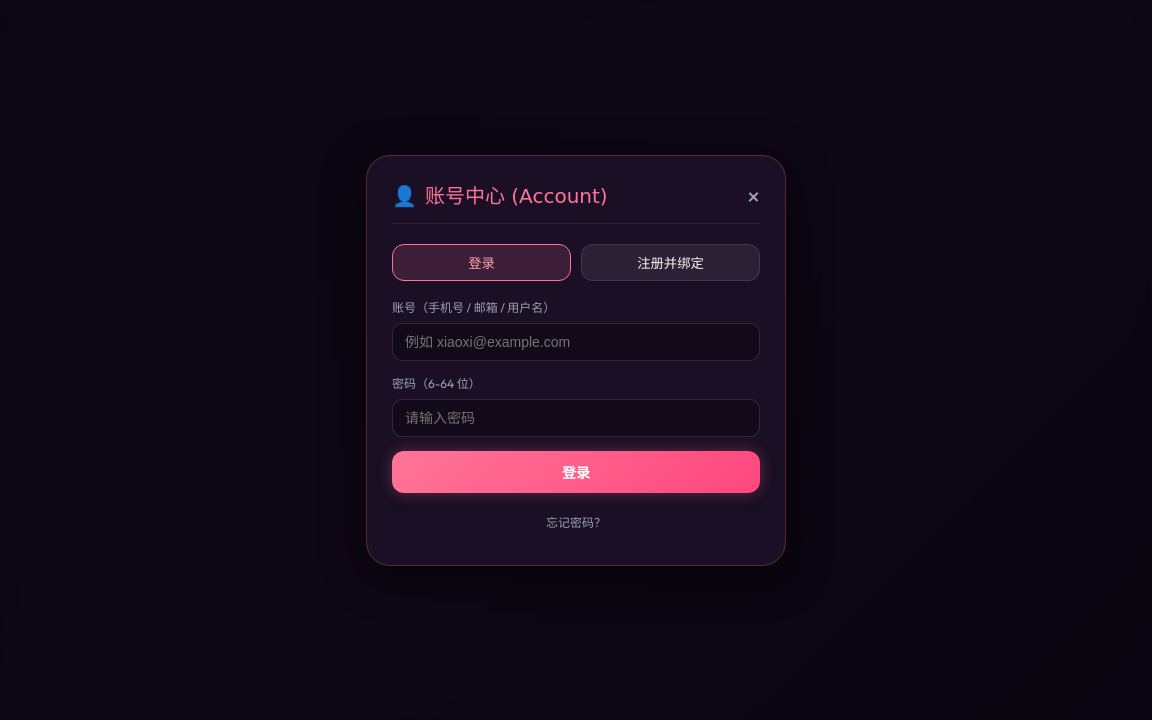
AuthModal › closing the modal re-arms the confirm (no one-click login after reopen)
In the field with placeholder "例如 xiaoxi@example.com": x=576, y=342 392,322 -> 760,360, type "tester@example.com"
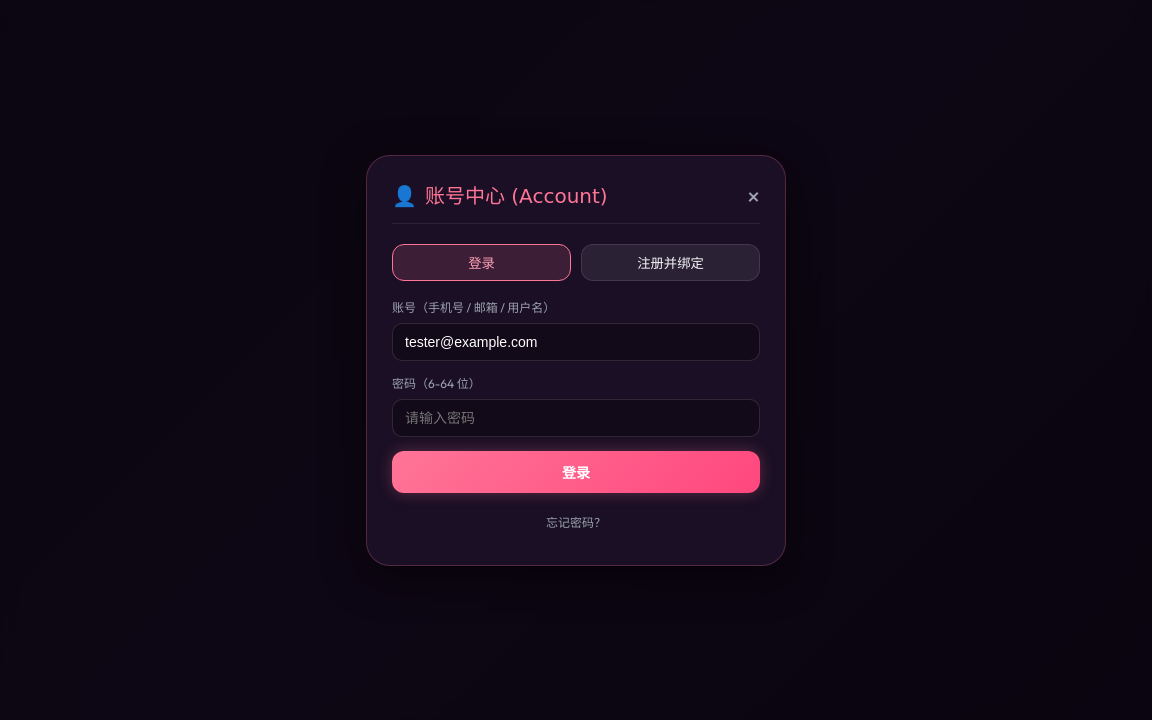
In the password field with placeholder "请输入密码": x=576, y=418 392,398 -> 760,436, type "secret123"
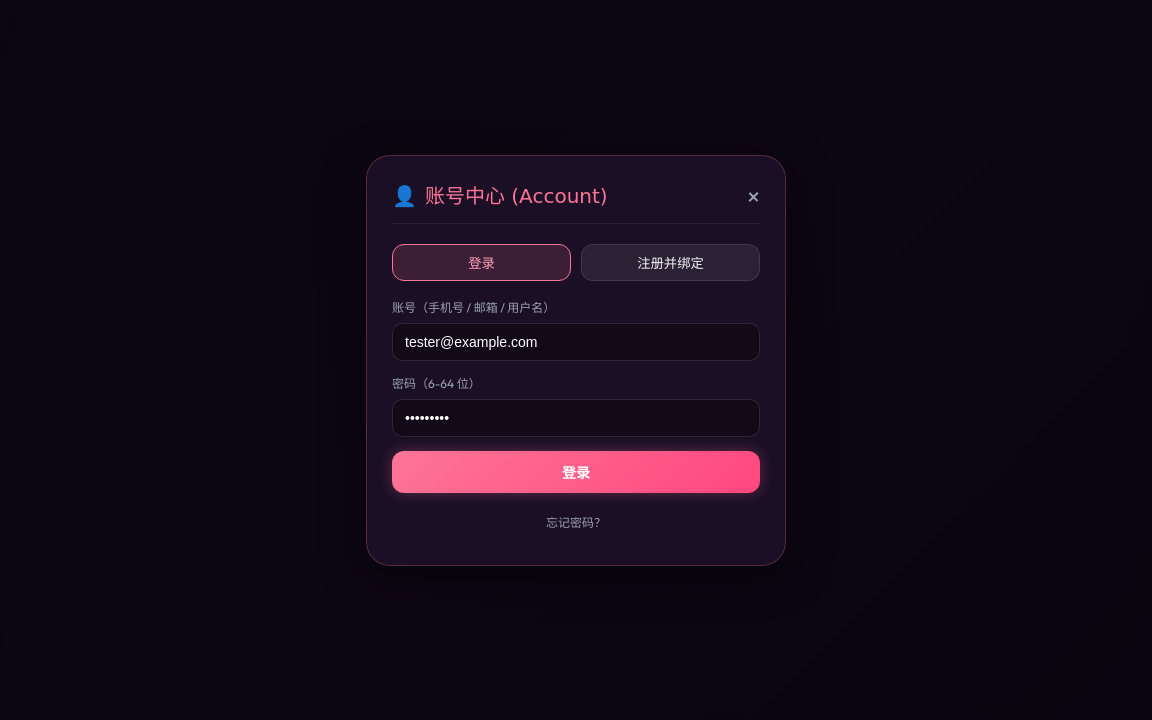
Click the 2nd button "登录": x=576, y=472 392,450 -> 760,492
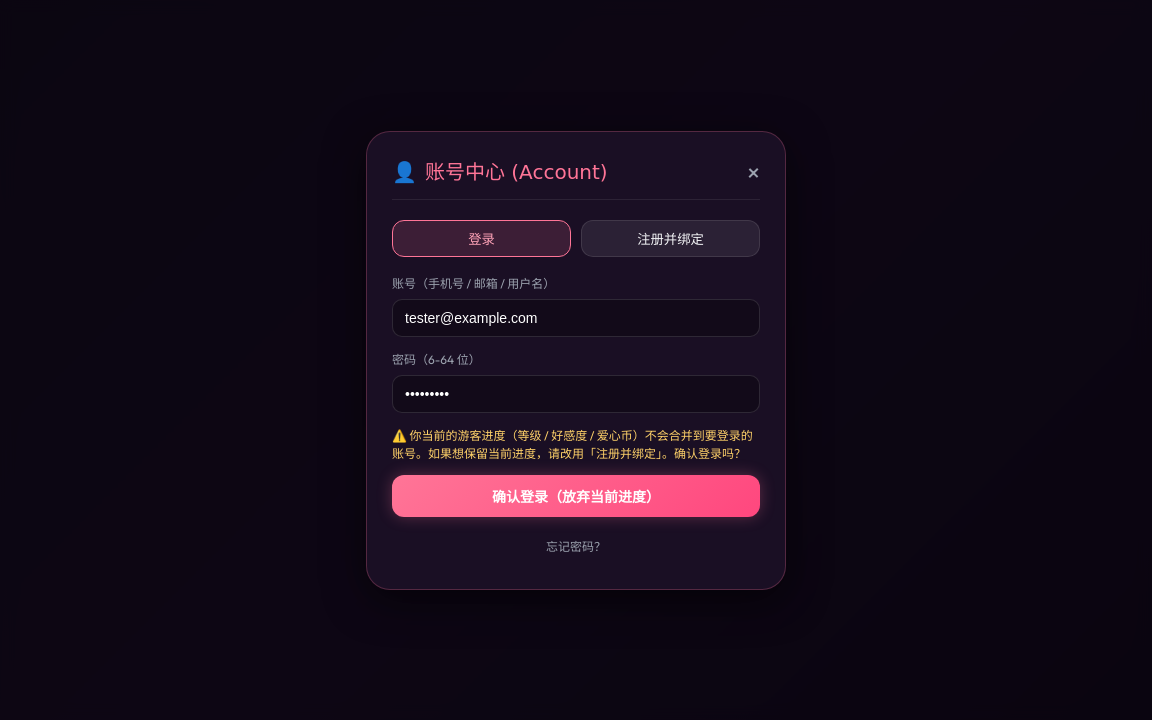
Expected: the button "确认登录（放弃当前进度）" is shown, 392,474 -> 760,516
Click the button with class "close-btn": x=754, y=172 747,156 -> 760,186
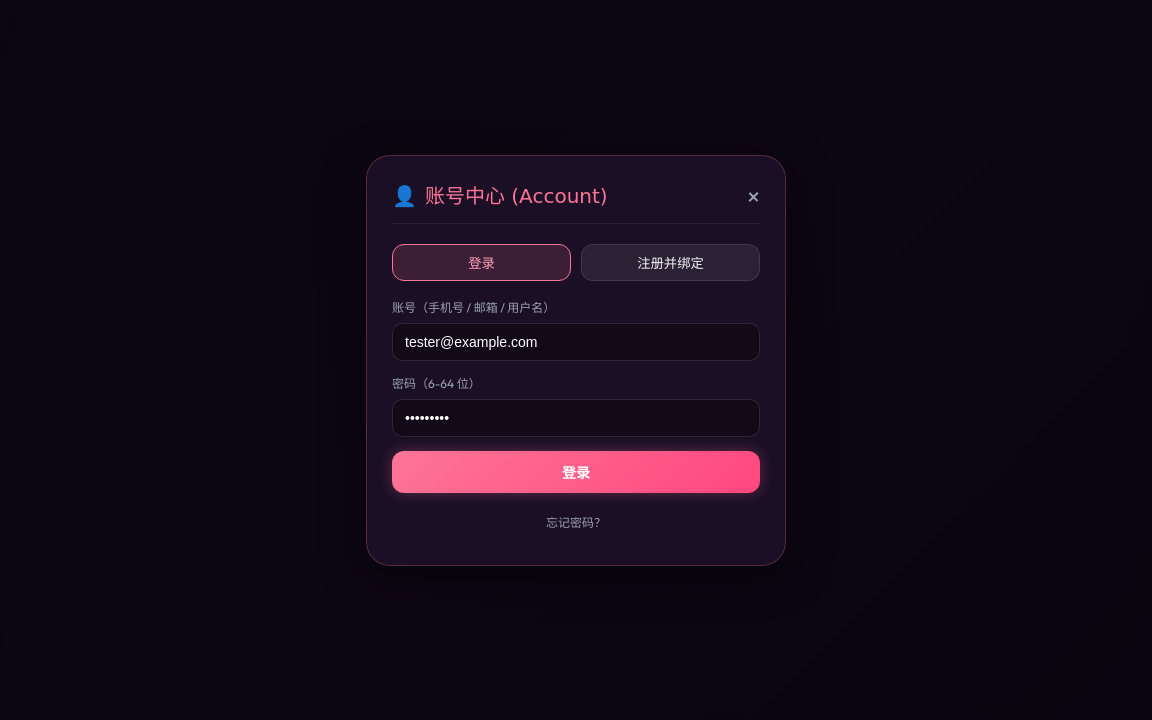
Click the 2nd button "登录": x=576, y=472 392,450 -> 760,492
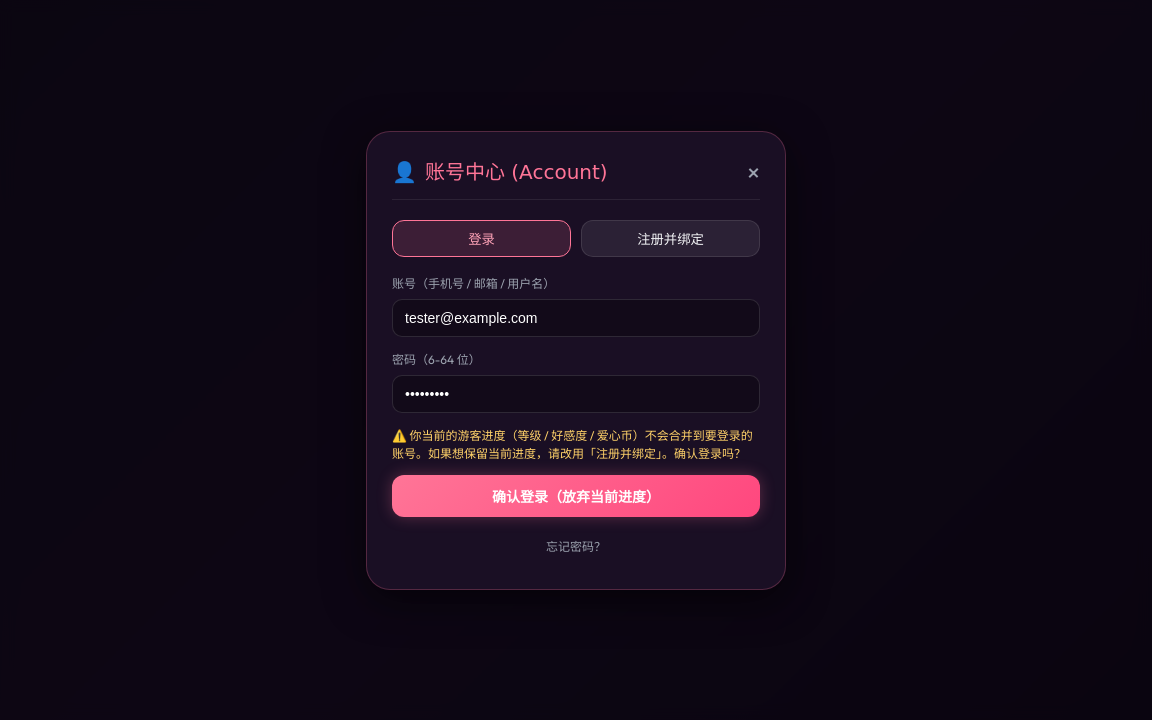
Expected: the button "确认登录（放弃当前进度）" is shown, 392,474 -> 760,516
